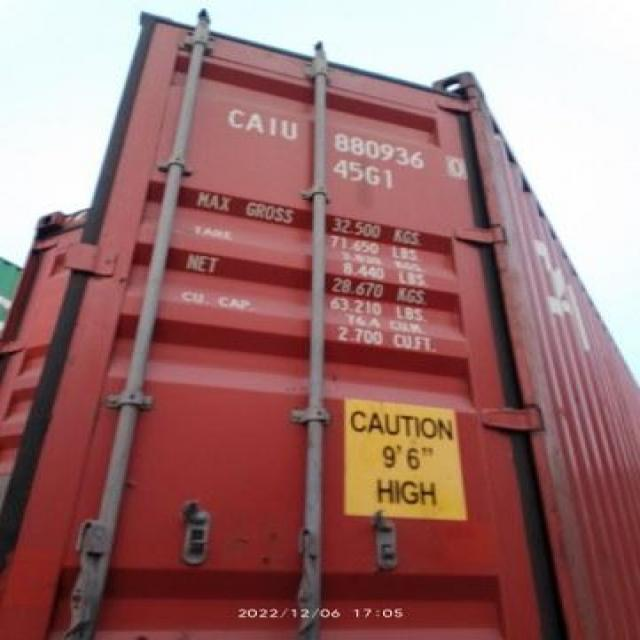container_number_h: (204, 87, 515, 206)
